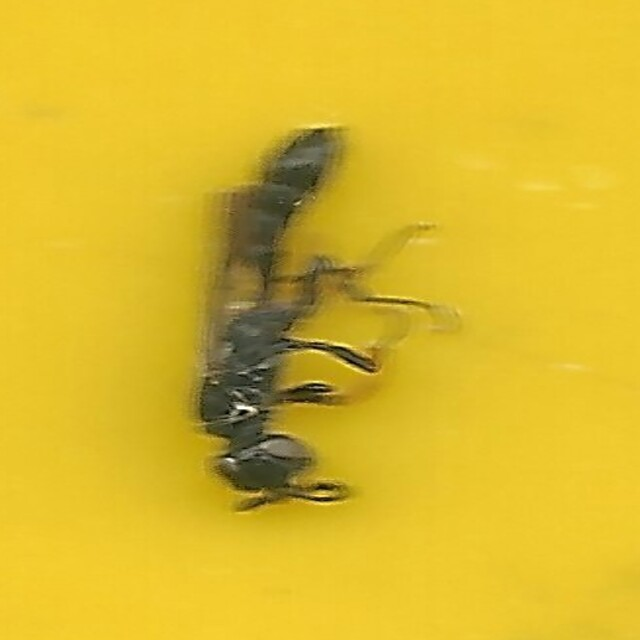Hymenoptera: (196, 124, 444, 516)
